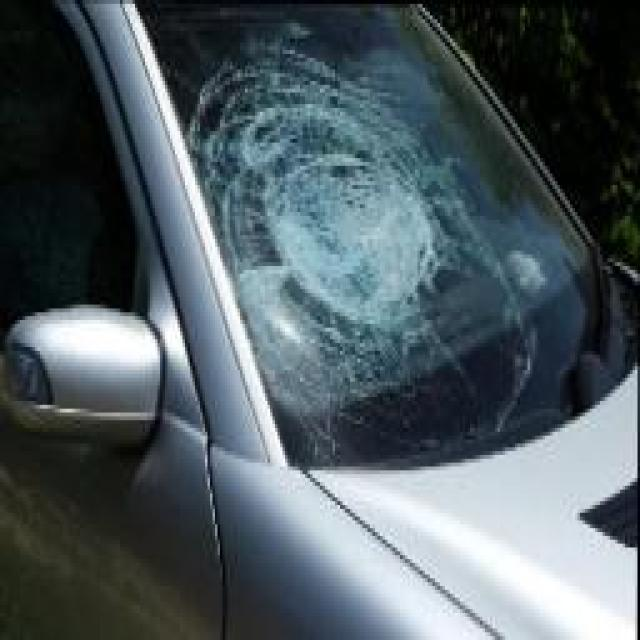Windshield: (155, 27, 639, 428)
